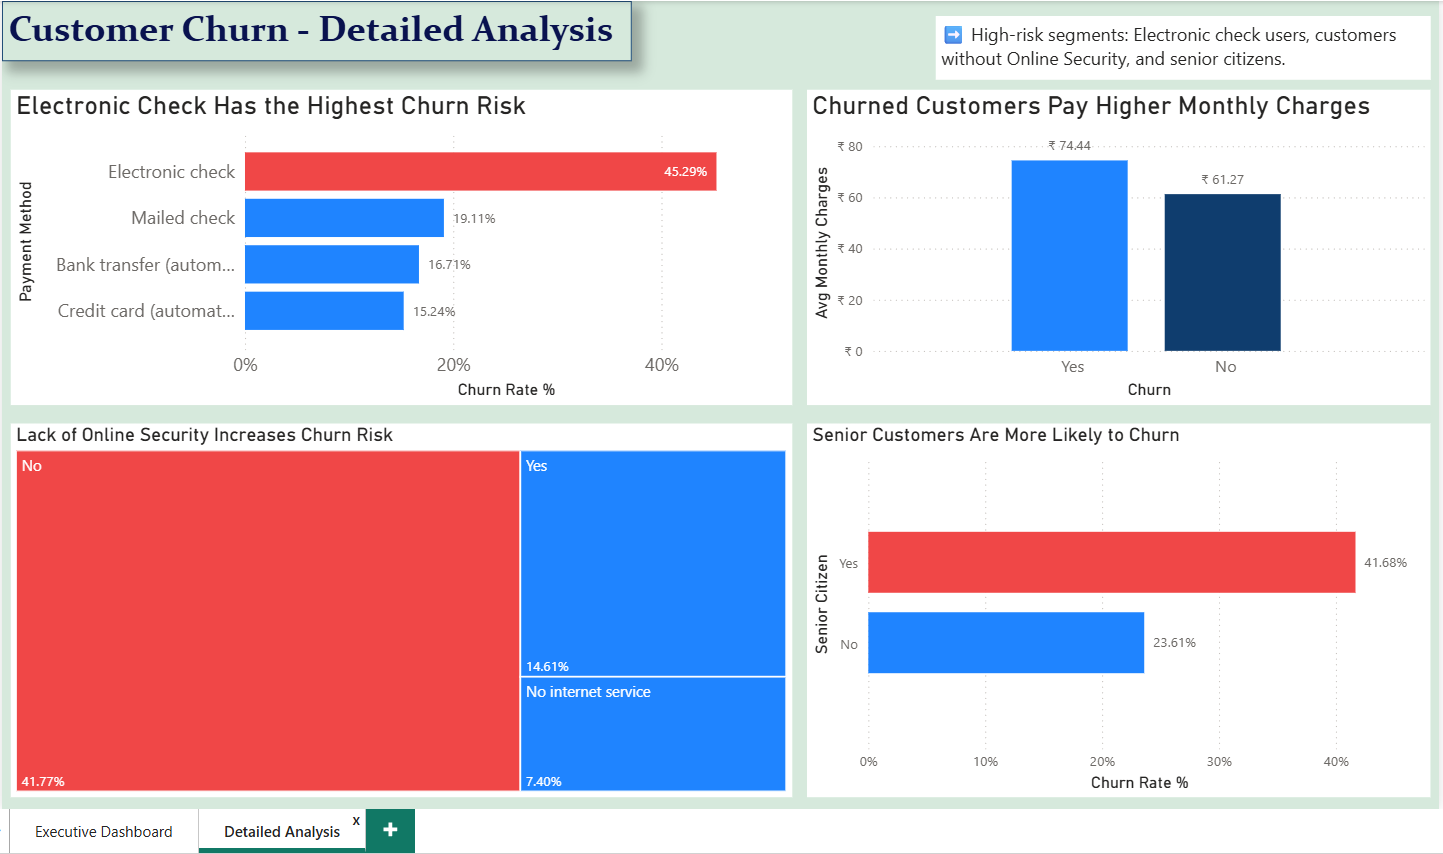

What the dashboard file says about the page in this screenshot:
{"tool":"powerbi","page":{"name":"Detailed Analysis","canvas":[1280,720],"ordinal":1},"visuals":[{"type":"textbox","box":[0,0,560.7,54],"z":0},{"type":"clusteredBarChart","title":"Electronic Check Has the Highest Churn Risk","fields":{"Y":["Telco.Churn Rate %"],"Category":["Telco.PaymentMethod"]},"box":[7.8,79,695.7,280.5],"z":1000},{"type":"clusteredColumnChart","title":"Churned Customers Pay Higher Monthly Charges","fields":{"Category":["Telco.Churn"],"Y":["Telco.Avg Monthly Charges"]},"box":[716.9,79,555.5,280.5],"z":2000},{"type":"treemap","title":"Lack of Online Security Increases Churn Risk","fields":{"Group":["Telco.OnlineSecurity"],"Values":["Telco.Churn Rate %"]},"box":[7.8,376.3,695.7,332.8],"z":3000},{"type":"clusteredBarChart","title":"Senior Customers Are More Likely to Churn","fields":{"Category":["Telco.SeniorCitizen"],"Y":["Telco.Churn Rate %"]},"box":[716.9,376.3,555.5,332.8],"z":4000},{"type":"textbox","box":[831.9,13.5,440.5,56.4],"z":5000}]}

Visuals, with their boxes on the page's 1280x720 design canvas (x1, y1, x2, y2). These are canvas units, not pixel positions in the 1443x854 screenshot, which may show the page scaled, cropped or inside an application window:
textbox: left=0, top=0, right=561, bottom=54
"Electronic Check Has the Highest Churn Risk" clusteredBarChart: left=8, top=79, right=704, bottom=360
"Churned Customers Pay Higher Monthly Charges" clusteredColumnChart: left=717, top=79, right=1272, bottom=360
"Lack of Online Security Increases Churn Risk" treemap: left=8, top=376, right=704, bottom=709
"Senior Customers Are More Likely to Churn" clusteredBarChart: left=717, top=376, right=1272, bottom=709
textbox: left=832, top=14, right=1272, bottom=70
